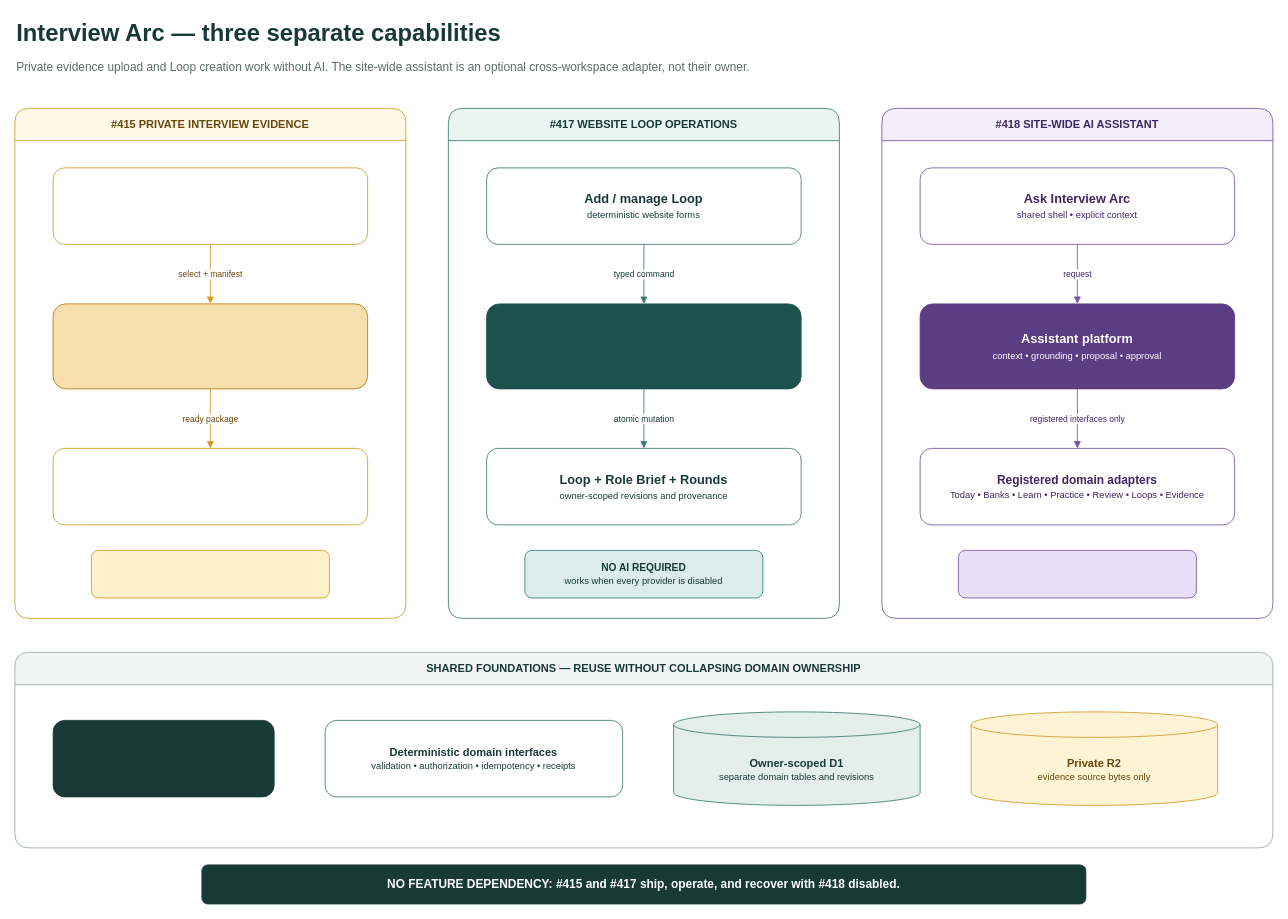
Image size: 1288x919. Some labels were removed from this diagram. The shapes that lost their labels are listed below. From the top down, each one's centre as x and y in pixels, then its label:
the point at 210,205: Upload interview evidence browser file picker • package manifest
the point at 210,346: Evidence ingest module resume • checksum • validate • reconcile
the point at 643,346: Loop command module validate • authorize • transact • receipt
the point at 210,486: Private package reader play • read • assign • delete
the point at 210,574: NO AI REQUIRED supplied transcript remains source evidence
the point at 1077,574: OPTIONAL ADAPTER does not own evidence or Loop state
the point at 163,758: Cloudflare Access verified owner scope
